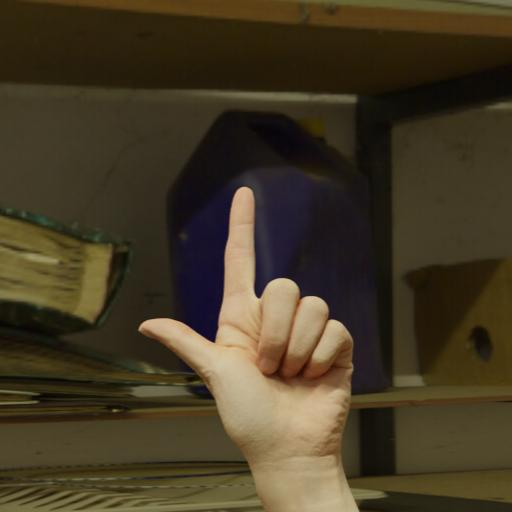L: (138, 180, 356, 472)
